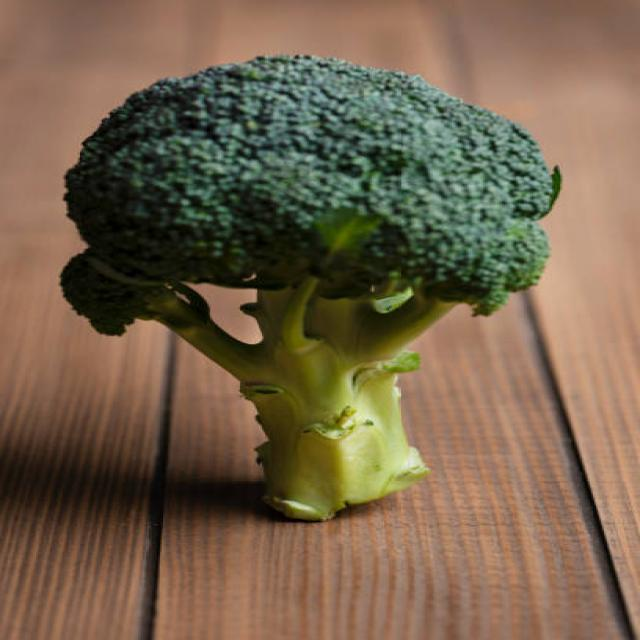broccoli: (43, 53, 614, 555)
